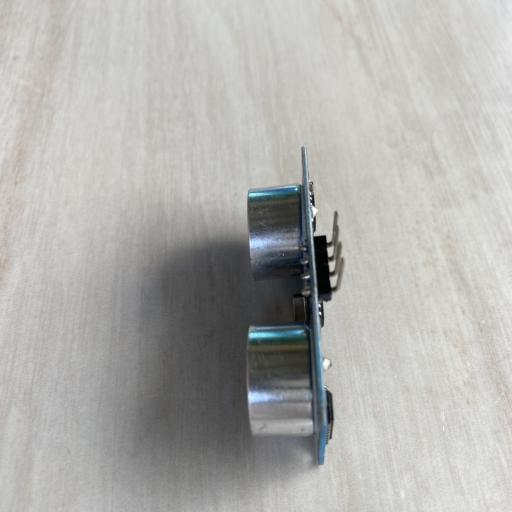Ultrasonic Sensor: (245, 142, 345, 466)
